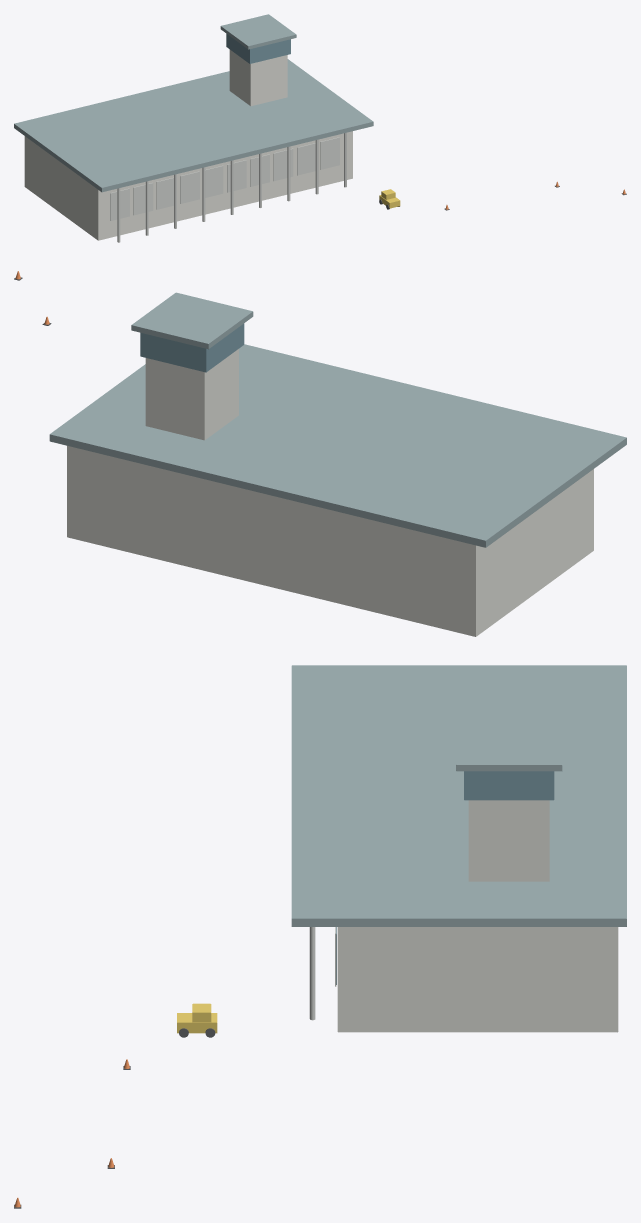
Rendered from airport_apron_props.glb.
The picture shows the model from 3 angles, top to bottom: view 1: azimuth 30°, elevation 25°; view 2: azimuth 150°, elevation 25°; view 3: azimuth 270°, elevation 25°; orthographic projection. The views are drawn at different scales.
Visible parts, largest first — view 1: TerminalRoof, TerminalConcrete, TerminalFrames, TerminalGlass; view 2: TerminalRoof, TerminalConcrete, TerminalGlass; view 3: TerminalRoof, TerminalConcrete, TerminalGlass, GSEVehicles, TerminalFrames.
Boxes of the visible parts, left/top/right/bottom form: TerminalRoof: left=14, top=14, right=373, bottom=192; TerminalConcrete: left=24, top=49, right=352, bottom=240; TerminalFrames: left=110, top=132, right=346, bottom=242; TerminalGlass: left=226, top=34, right=290, bottom=63; TerminalRoof: left=49, top=292, right=626, bottom=547; TerminalConcrete: left=67, top=349, right=593, bottom=636; TerminalGlass: left=140, top=323, right=244, bottom=372; TerminalRoof: left=291, top=665, right=626, bottom=926; TerminalConcrete: left=337, top=800, right=618, bottom=1032; TerminalGlass: left=336, top=771, right=554, bottom=984; GSEVehicles: left=177, top=1003, right=217, bottom=1033; TerminalFrames: left=309, top=927, right=336, bottom=1020.
Size of the model in its own units: 63.94 by 17.23 by 39.29.
